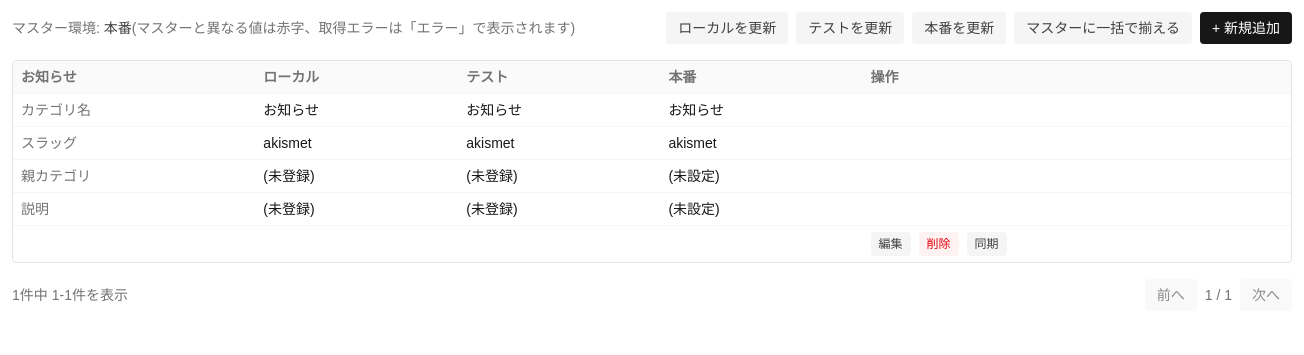
Test: TermComparisonTable › 同期に成功すると成功メッセージを表示する
This screenshot has width=1304, height=355.
Click the button "同期".
click(986, 244)  # box [966,232,1006,256]
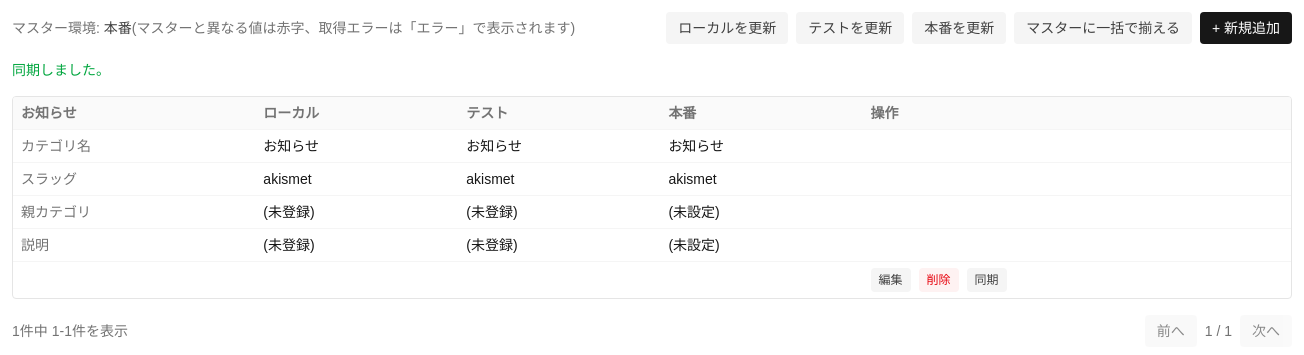
Expected: the text "同期しました。" is shown, [12,62,110,78]
